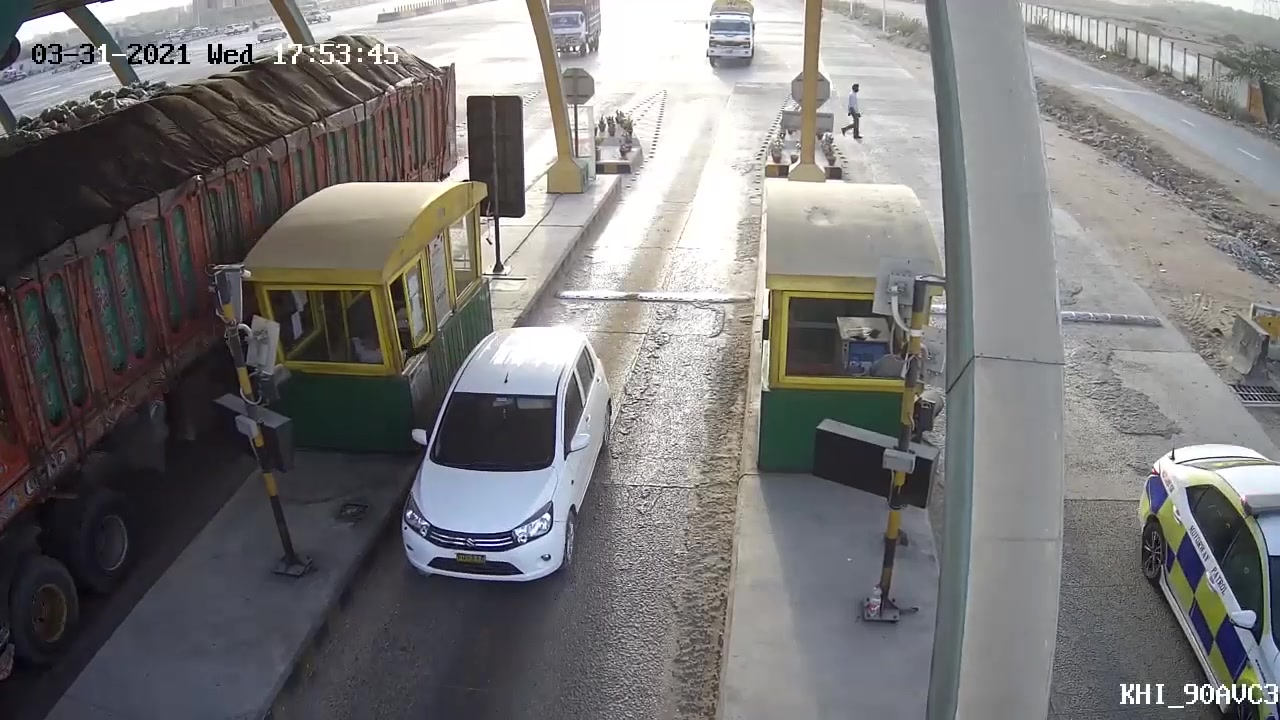F1: (373, 322, 617, 601)
